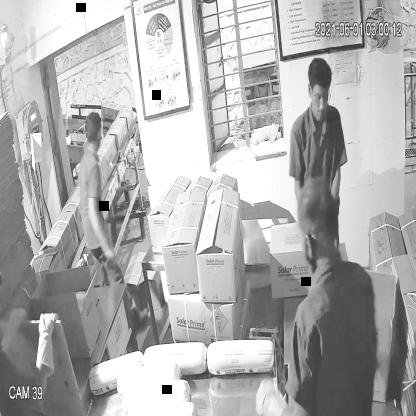goggles: (307, 84, 334, 111)
